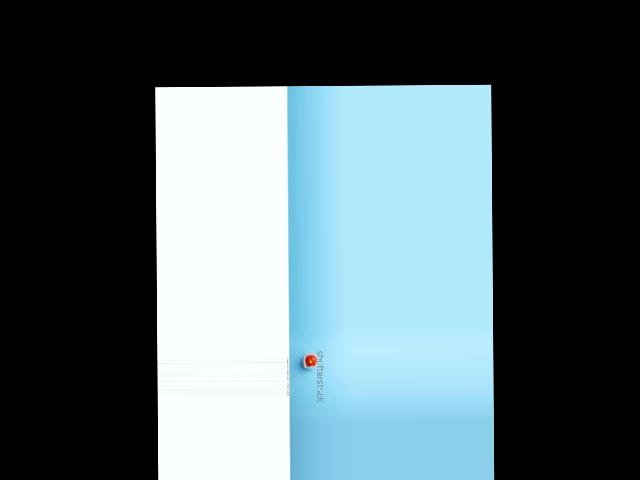tomato: (305, 356, 316, 366)
